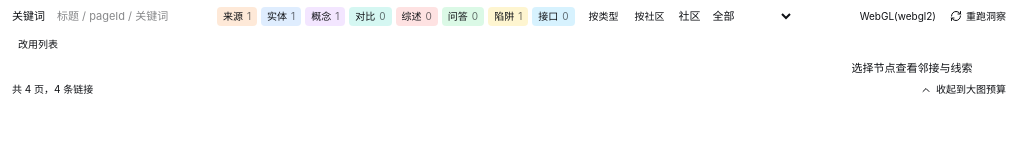
KbWikiGraph — 画布模式（WebGL 可用） › 类型过滤只保留命中的节点，边随之收敛
The width and height of the screenshot is (1024, 160).
Step 1. Click the button with test id "kb-graph-type-source" → [237, 16], box [217,7,257,26]
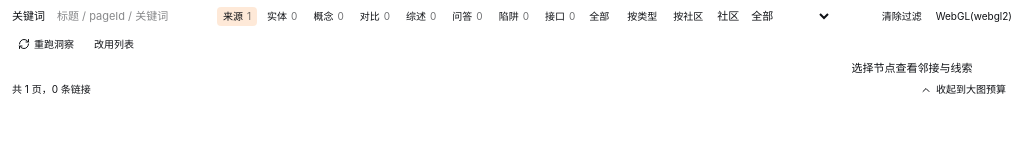
Now the text with test id "kb-graph-coverage" shows "共 1 页", box [12,83,91,95]
Step 2. Click the button with test id "kb-graph-type-source" → [237, 16], box [217,7,257,26]
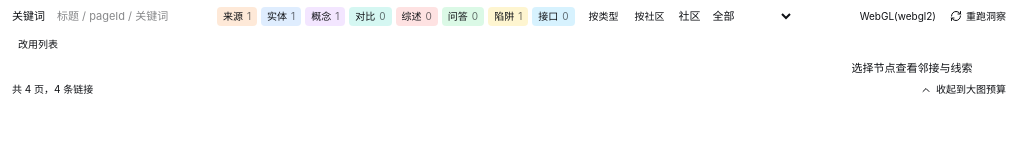
Now the text with test id "kb-graph-coverage" shows "共 4 页", box [12,83,93,95]
